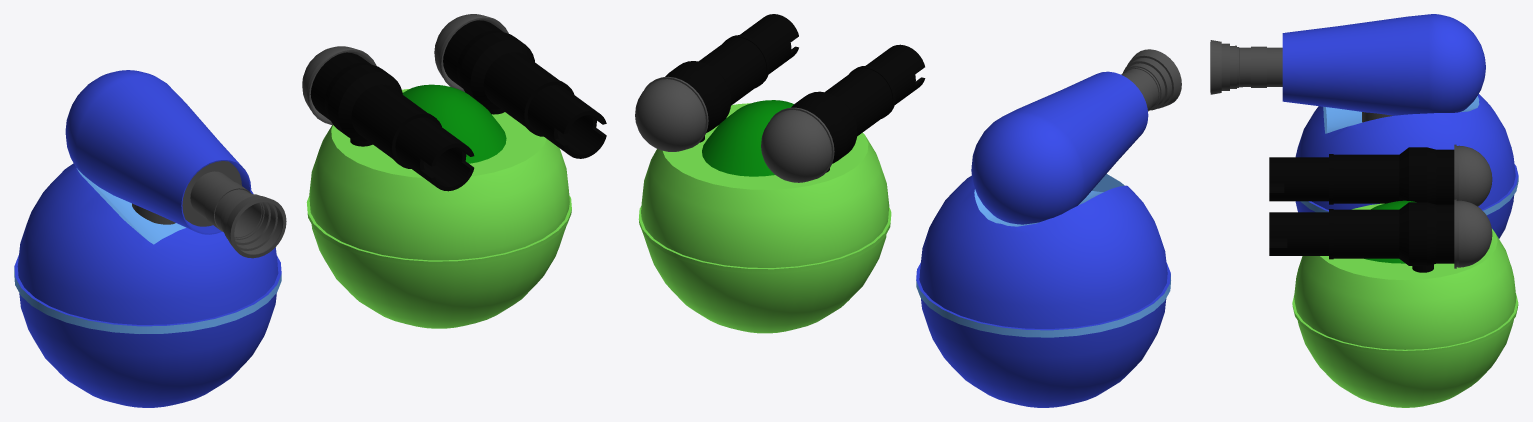
File: two.fbx
The picture shows the model from 3 angles, left to right: view 1: azimuth 30°, elevation 25°; view 2: azimuth 150°, elevation 25°; view 3: azimuth 270°, elevation 25°; orthographic projection. The views are drawn at different scales.
Parts seen in each view (by area): view 1: blue, Sphere.003, gun 2, gun 3.001, gun 3; view 2: blue, Sphere.003, gun 2, gun 3, gun 3.001; view 3: Sphere.003, gun 2, gun 3, blue, gun 3.001.
Part boxes in pixels (x1,y1,x2,y2): blue: (14, 163, 281, 407); Sphere.003: (306, 84, 571, 328); gun 2: (65, 70, 286, 258); gun 3.001: (302, 46, 474, 191); gun 3: (434, 14, 606, 158); blue: (916, 174, 1170, 407); Sphere.003: (638, 100, 891, 333); gun 2: (971, 49, 1181, 224); gun 3: (635, 14, 798, 151); gun 3.001: (761, 44, 925, 182); Sphere.003: (1292, 200, 1518, 407); gun 2: (1210, 14, 1485, 115); gun 3: (1269, 199, 1492, 272); blue: (1295, 94, 1518, 238); gun 3.001: (1269, 144, 1492, 206).
Size of the model in its own units: 463 by 261 by 277.
